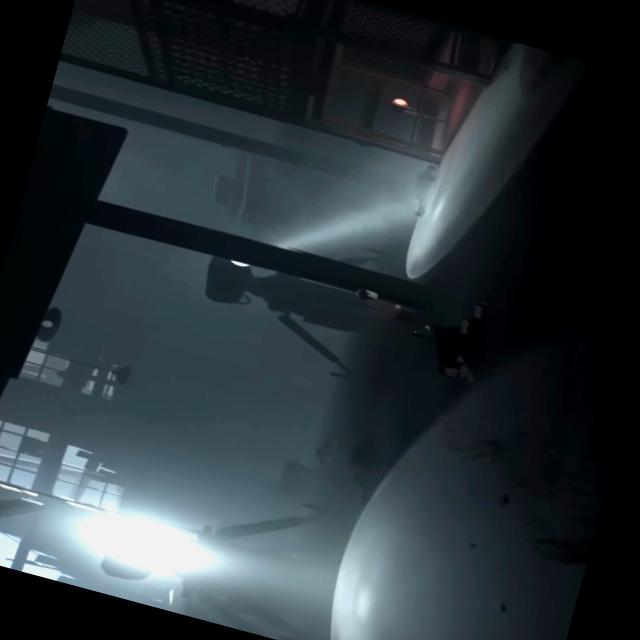boy: (349, 286, 438, 340)
zombie: (425, 291, 495, 384)
